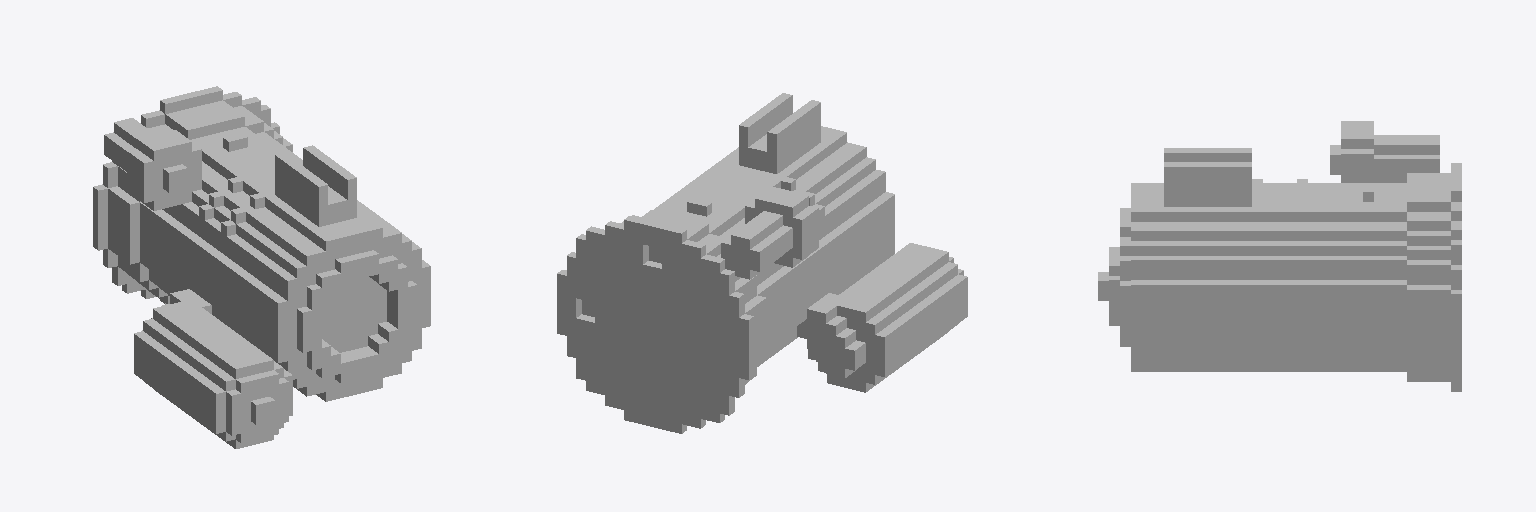
The model's file is minigun-0.obj.
The picture shows the model from 3 angles: view 1: azimuth 30°, elevation 25°; view 2: azimuth 150°, elevation 25°; view 3: azimuth 270°, elevation 25°; orthographic projection.
Parts seen in each view (by area): view 1: миниган-0; view 2: миниган-0; view 3: миниган-0.
Boxes of the visible parts, <box> form: миниган-0: <box>93,86,430,448</box>; миниган-0: <box>557,93,967,433</box>; миниган-0: <box>1098,121,1461,391</box>.
Bounding box in the file's own units: 25 × 22 × 33.